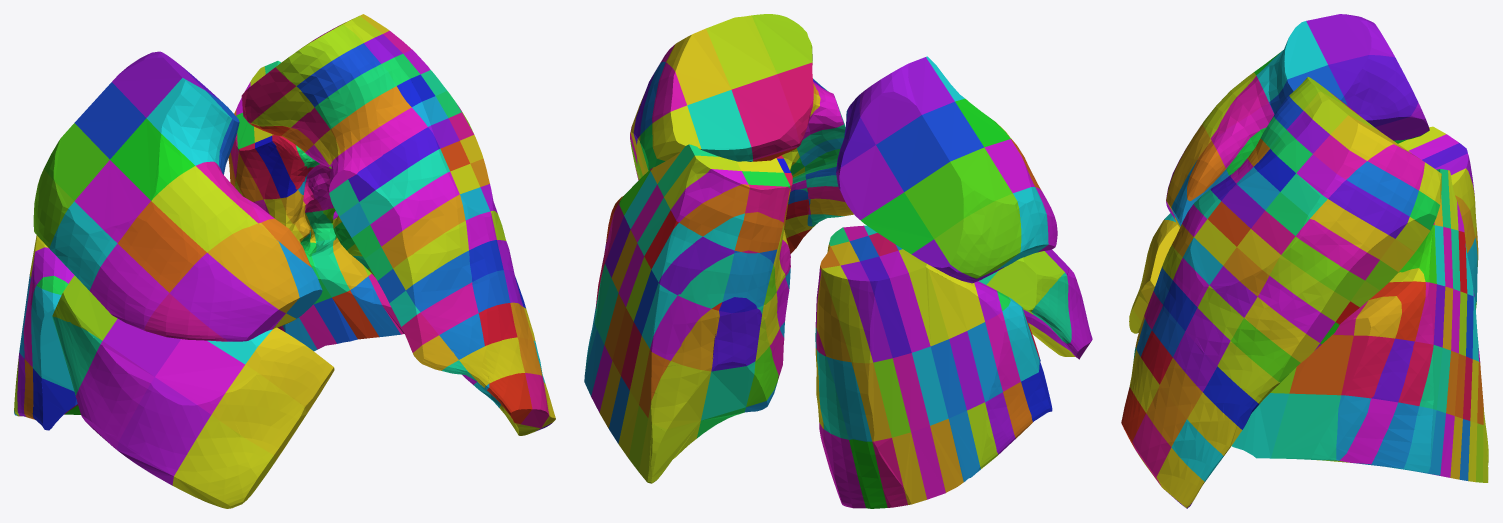
File: lung-male-small.glb
3 views of the same model, side by side, from view 1: azimuth 30°, elevation 25°; view 2: azimuth 150°, elevation 25°; view 3: azimuth 270°, elevation 25° (orthographic). The views are drawn at different scales.
Parts seen in each view (by area): view 1: RML-1A3, RML-2A3, RUL-4A2, RML-1A2, RML-3A3, RUL-3A3, RUL-2A4, RUL-4A3, RUL-3A2, RML-2A2, RML-1A1, RUL-3A1 (+67 smaller); view 2: RUL-1A2, RUL-1A3, RUL-1A1, RUL-1A4, LUL-1B2, LUL-1A2, LUL-1B3, LLL-1A4, RUL-1B3, LUL-1A3, RML-4A2, LLL-1B3 (+87 smaller); view 3: RUL-1B4, LLL-11B5, RUL-1A4, LLL-11B4, RUL-2A4, LLL-11A4, LLL-11C5, LUL-4A4, LUL-5A4, LUL-3A4, LUL-6A4, LUL-7A4 (+98 smaller).
Part boxes in pixels (x1,y1,x2,y2): RML-1A3: (172, 415, 274, 508); RML-2A3: (117, 377, 210, 485); RUL-4A2: (170, 253, 285, 341); RML-1A2: (211, 365, 306, 462); RML-3A3: (75, 341, 154, 449); RUL-3A3: (151, 166, 257, 252); RUL-2A4: (146, 78, 231, 165); RUL-4A3: (207, 223, 299, 312); RUL-3A2: (118, 201, 206, 292); RML-2A2: (155, 339, 244, 414); RML-1A1: (245, 327, 334, 413); RUL-3A1: (89, 243, 168, 330); RUL-1A2: (904, 147, 1012, 238); RUL-1A3: (876, 101, 983, 191); RUL-1A1: (934, 193, 1021, 278); RUL-1A4: (859, 57, 954, 144); LUL-1B2: (731, 74, 799, 160); LUL-1A2: (706, 15, 776, 89); LUL-1B3: (687, 90, 752, 161); LLL-1A4: (648, 361, 711, 429); RUL-1B3: (836, 145, 903, 219); LUL-1A3: (666, 28, 731, 105); RML-4A2: (986, 251, 1064, 314); LLL-1B3: (711, 308, 761, 371); RUL-1B4: (1328, 55, 1418, 127); LLL-11B5: (1271, 393, 1340, 460); RUL-1A4: (1306, 14, 1395, 64); LLL-11B4: (1289, 334, 1353, 395); RUL-2A4: (1256, 21, 1327, 101); LLL-11A4: (1341, 335, 1394, 398); LLL-11C5: (1232, 393, 1288, 458); LUL-4A4: (1310, 199, 1394, 259); LUL-5A4: (1295, 219, 1379, 280); LUL-3A4: (1328, 180, 1409, 238); LUL-6A4: (1281, 236, 1364, 300); LUL-7A4: (1269, 255, 1350, 321).
Size of the model in its own units: 0.2612 by 0.232 by 0.1998.
